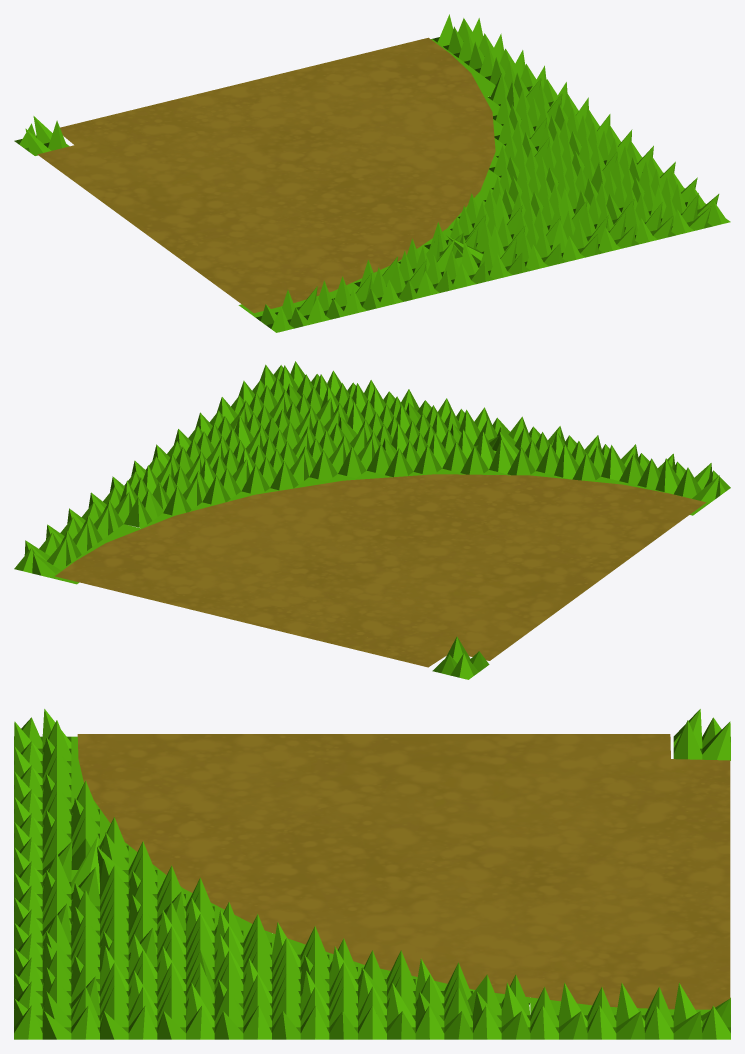
Rendered from дорожка поворот 2.fbx.
3 renders of one model, top to bottom at view 1: azimuth 30°, elevation 25°; view 2: azimuth 150°, elevation 25°; view 3: azimuth 270°, elevation 25°, orthographic. The views are drawn at different scales.
Visible parts, largest first — view 1: Circle.002, Plane.001; view 2: Circle.002, Plane.001; view 3: Circle.002, Plane.001.
Part boxes in pixels (x1=…): Circle.002: x1=37, y1=37, x2=495, y2=313; Plane.001: x1=14, y1=14, x2=730, y2=332; Circle.002: x1=55, y1=474, x2=706, y2=667; Plane.001: x1=14, y1=361, x2=730, y2=679; Circle.002: x1=77, y1=734, x2=730, y2=1009; Plane.001: x1=14, y1=709, x2=730, y2=1039.
Size of the model in its own units: 100 by 5.4 by 100.
